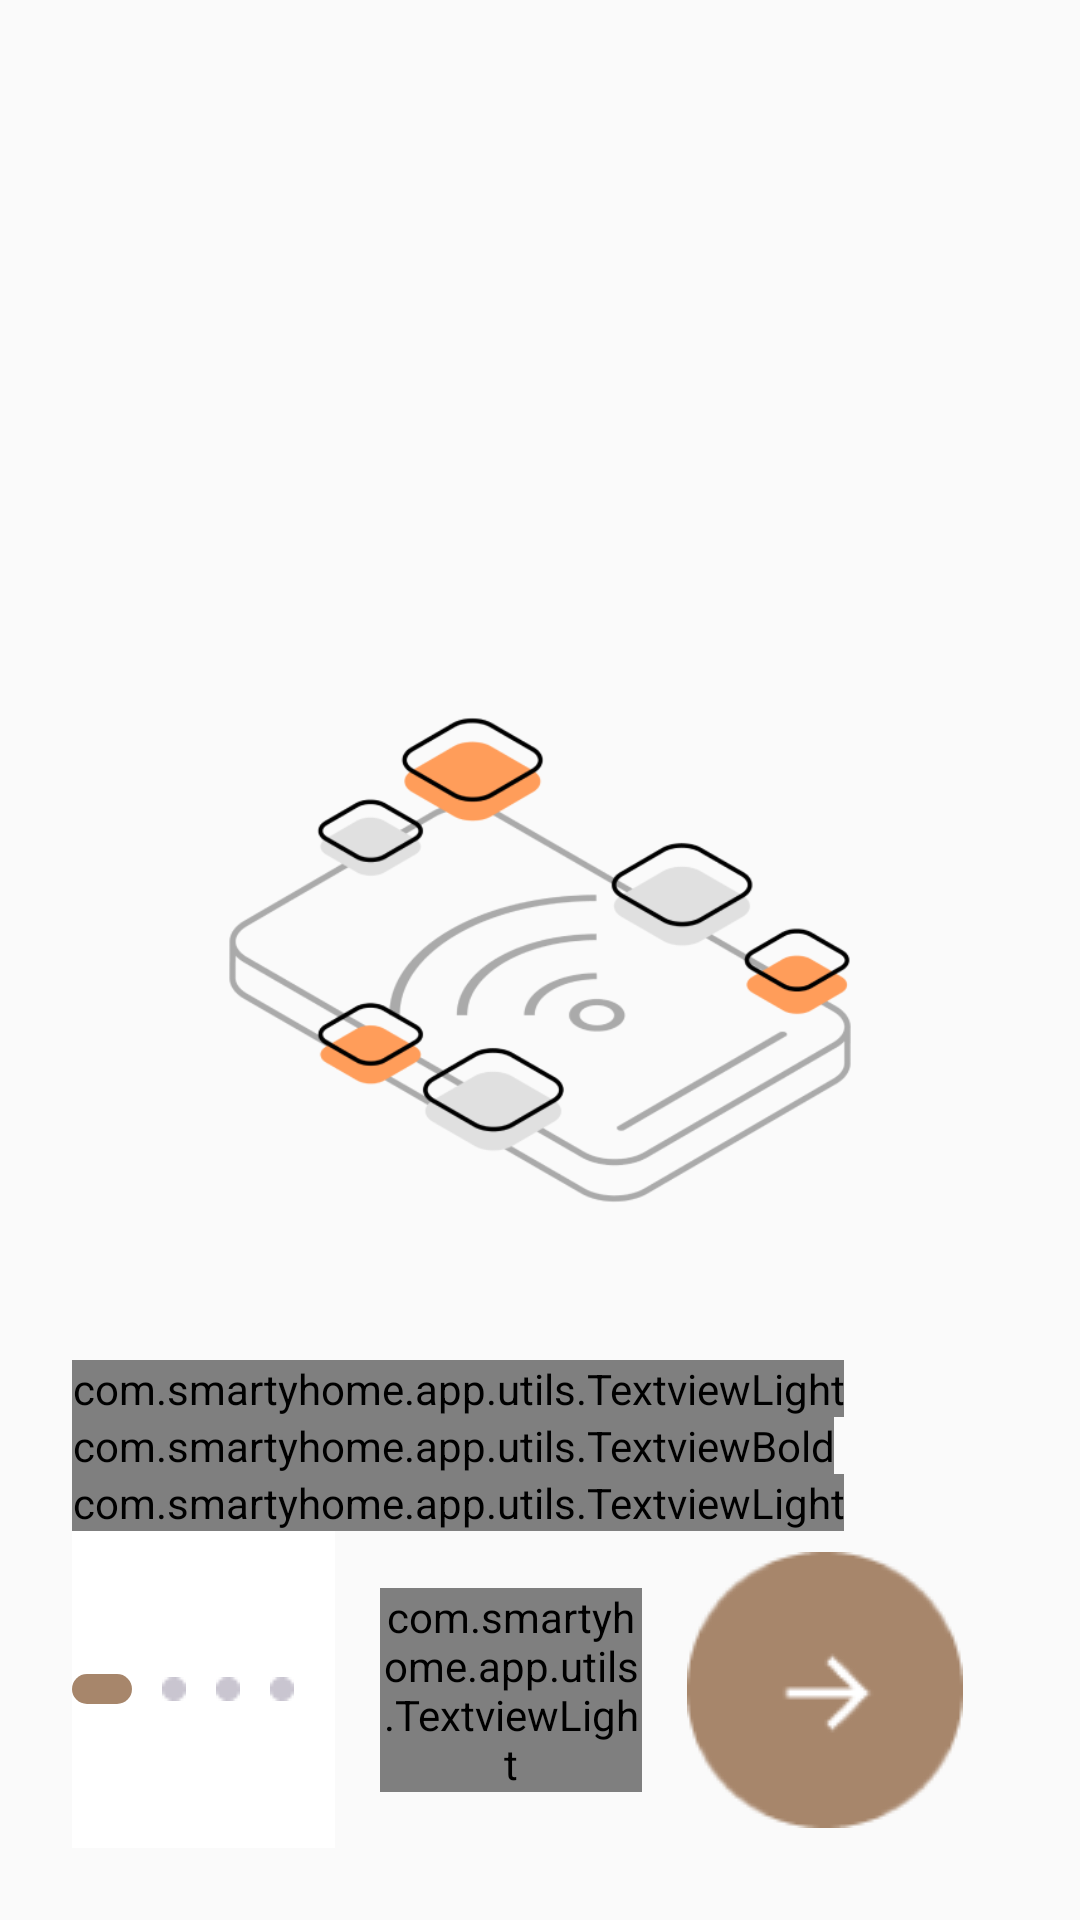

Screen size 1080px×1920px. Icon name, then its center in pixels as (x,y):
next arrow: (825,1690)
